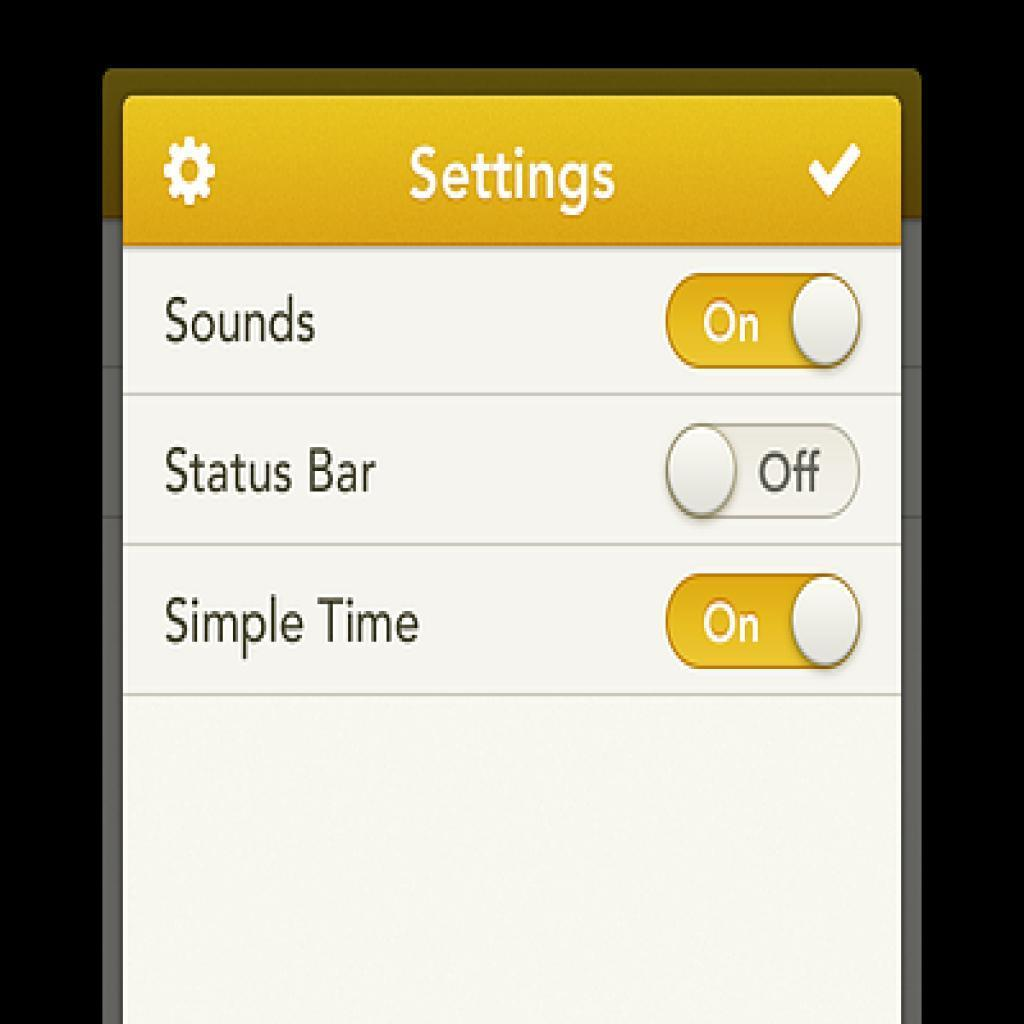icon: (158, 131, 224, 214), (810, 140, 860, 204)
label: (165, 590, 424, 665), (405, 142, 621, 218), (162, 441, 383, 499), (162, 292, 320, 355)
switch: (666, 422, 861, 522), (665, 271, 860, 370), (668, 574, 860, 672)
